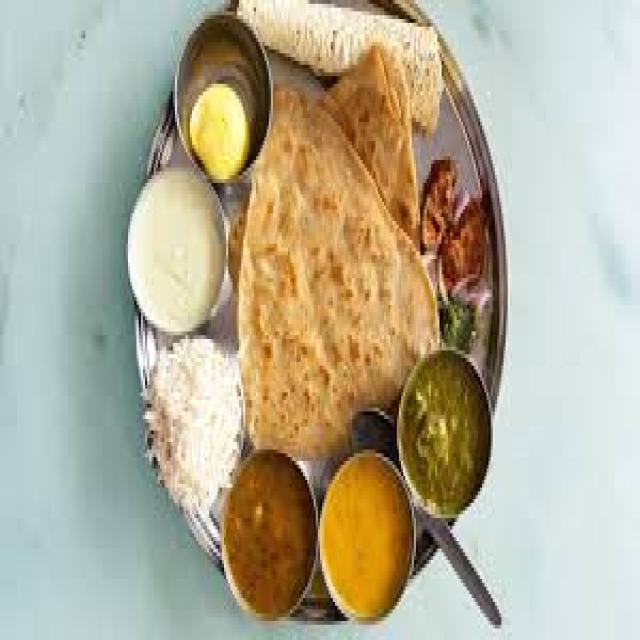Rice: (152, 338, 244, 503)
chapathi: (268, 92, 411, 406)
